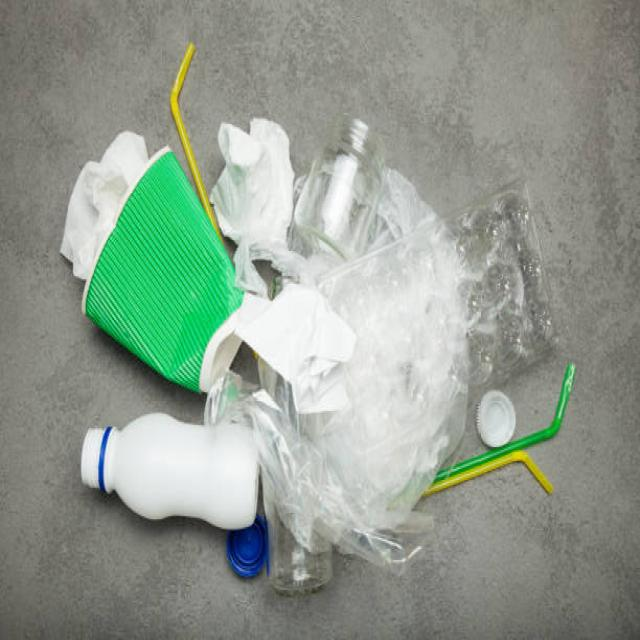cardboard: (95, 152, 251, 389)
glass: (302, 116, 386, 257)
plastic: (307, 268, 571, 502), (80, 414, 277, 571)
